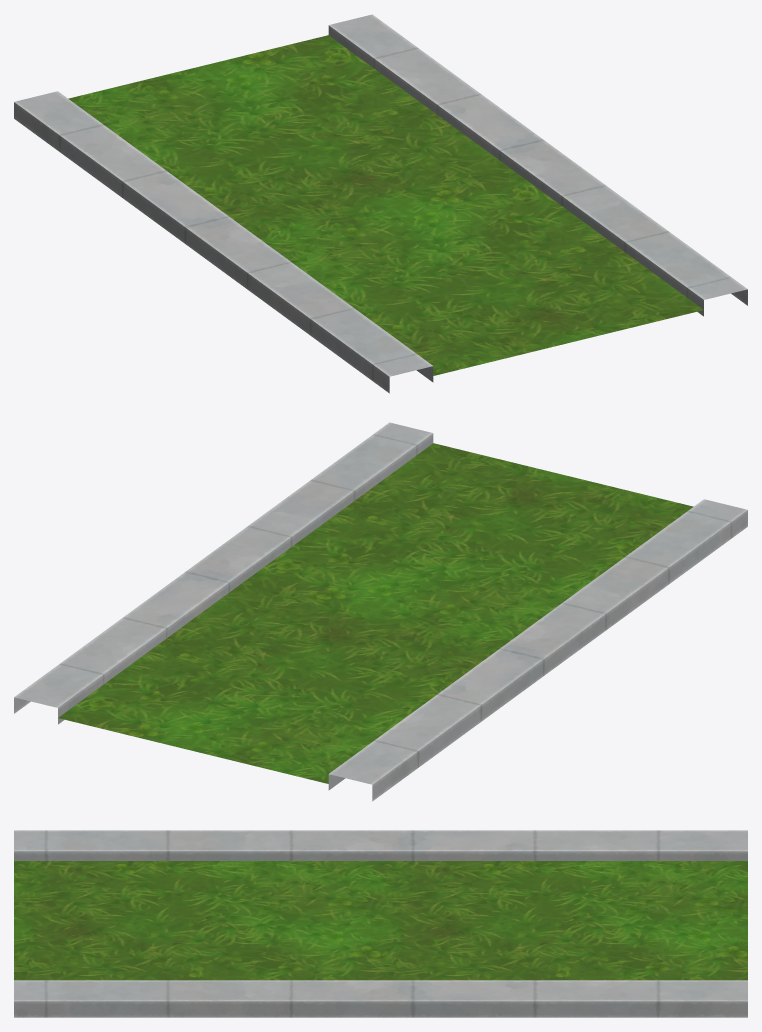
The model's file is flowerBed_low_02.fbx.
The picture shows the model from 3 angles, top to bottom: view 1: azimuth 30°, elevation 25°; view 2: azimuth 150°, elevation 25°; view 3: azimuth 270°, elevation 25°; orthographic projection. The views are drawn at different scales.
Visible parts, largest first — view 1: flowerBed_low_02; view 2: flowerBed_low_02; view 3: flowerBed_low_02.
Part boxes in pixels (x1,y1,x2,y2): flowerBed_low_02: (14,14,747,393); flowerBed_low_02: (14,422,747,801); flowerBed_low_02: (14,830,747,1017).
Size of the model in its own units: 165 by 7.39 by 300.
